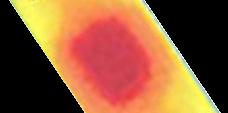componente_T: (8, 1, 221, 113)
